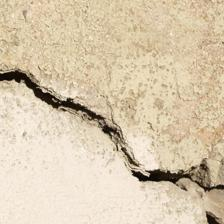Crack: (1, 32, 205, 161)
